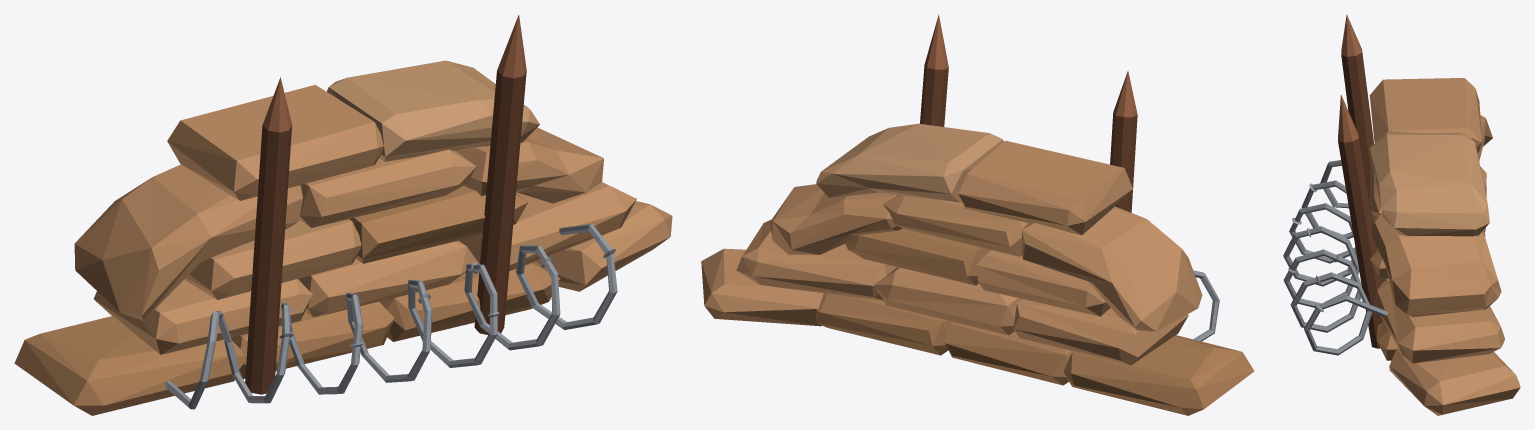
File: SmallFence_03.fbx
3 views of the same model, side by side, from view 1: azimuth 30°, elevation 25°; view 2: azimuth 150°, elevation 25°; view 3: azimuth 270°, elevation 25° (orthographic). The views are drawn at different scales.
Visible parts, largest first — view 1: SmallFence_03; view 2: SmallFence_03; view 3: SmallFence_03.
Part boxes in pixels (left/top/right/bottom): SmallFence_03: left=14, top=14, right=672, bottom=415; SmallFence_03: left=701, top=14, right=1254, bottom=415; SmallFence_03: left=1283, top=14, right=1520, bottom=415.
Bounding box in the file's own units: 257 × 129 × 110.
